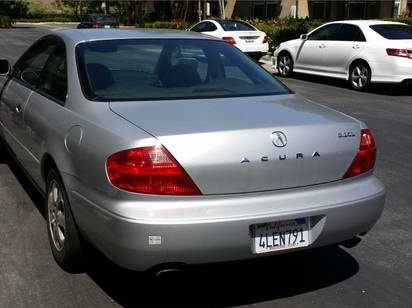acura: (1, 26, 389, 284)
